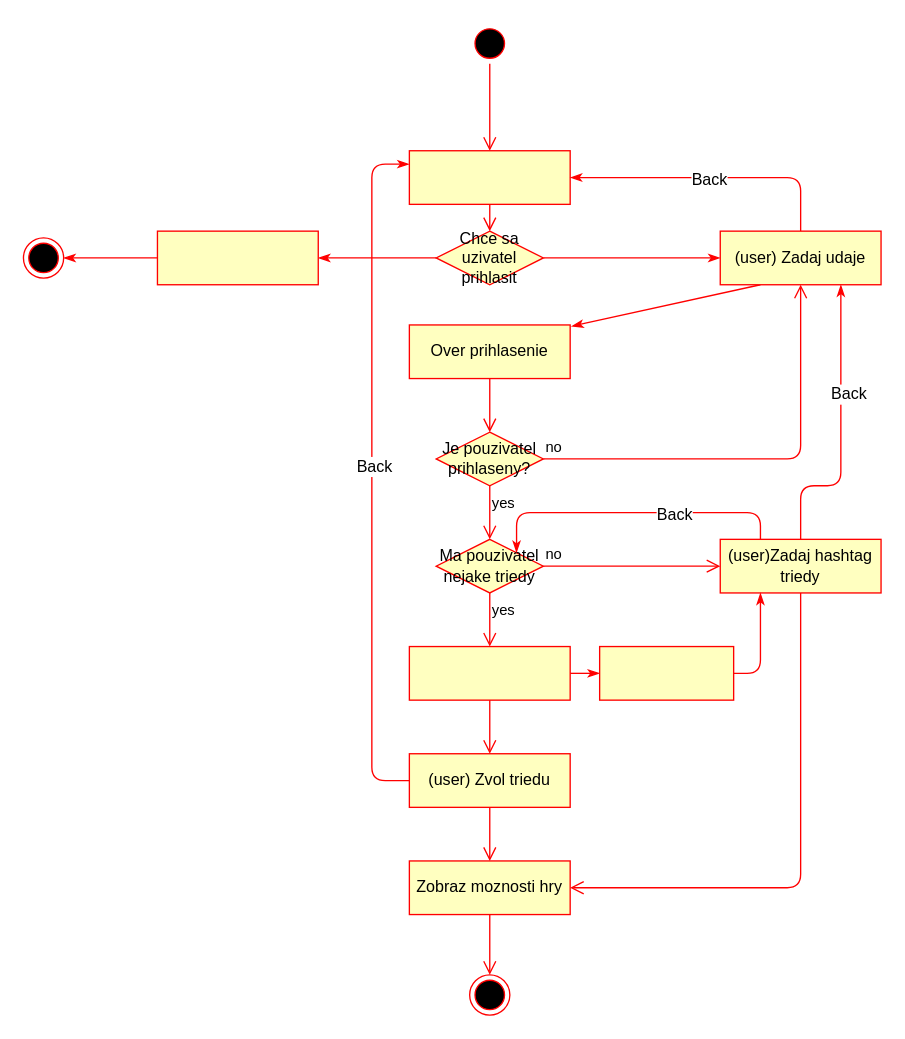
The diagram is 905 pixels wide and 1039 high, and some of its shapes have lost their labels. Each missing label, with the centre of its shape:
Pridaj triedu: point 666,672
Spusti offline verziu: point 237,257
Zobraz login: point 489,176
Zobraz Triedy: point 489,672
